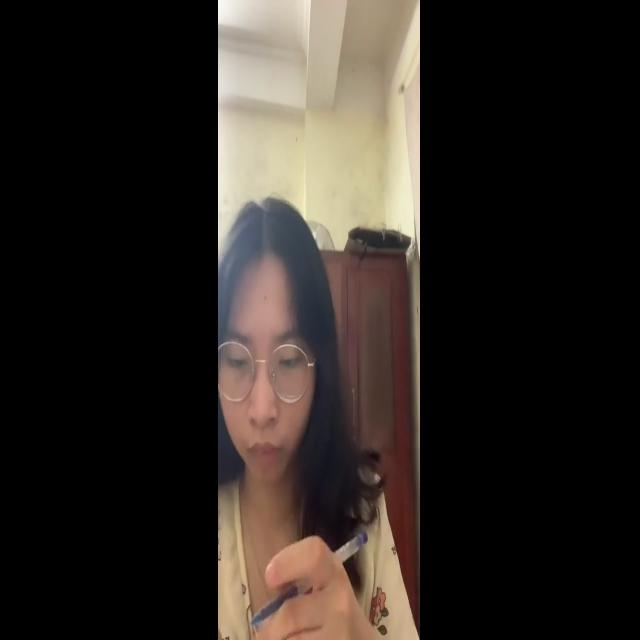student: (218, 193, 398, 640)
